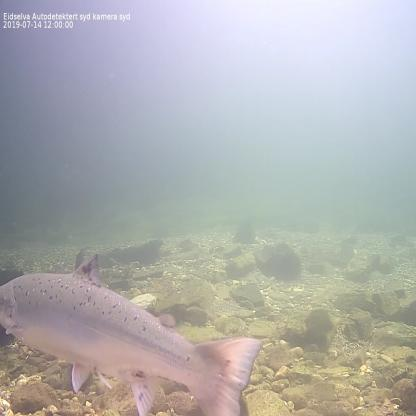salmon: (0, 250, 268, 416)
